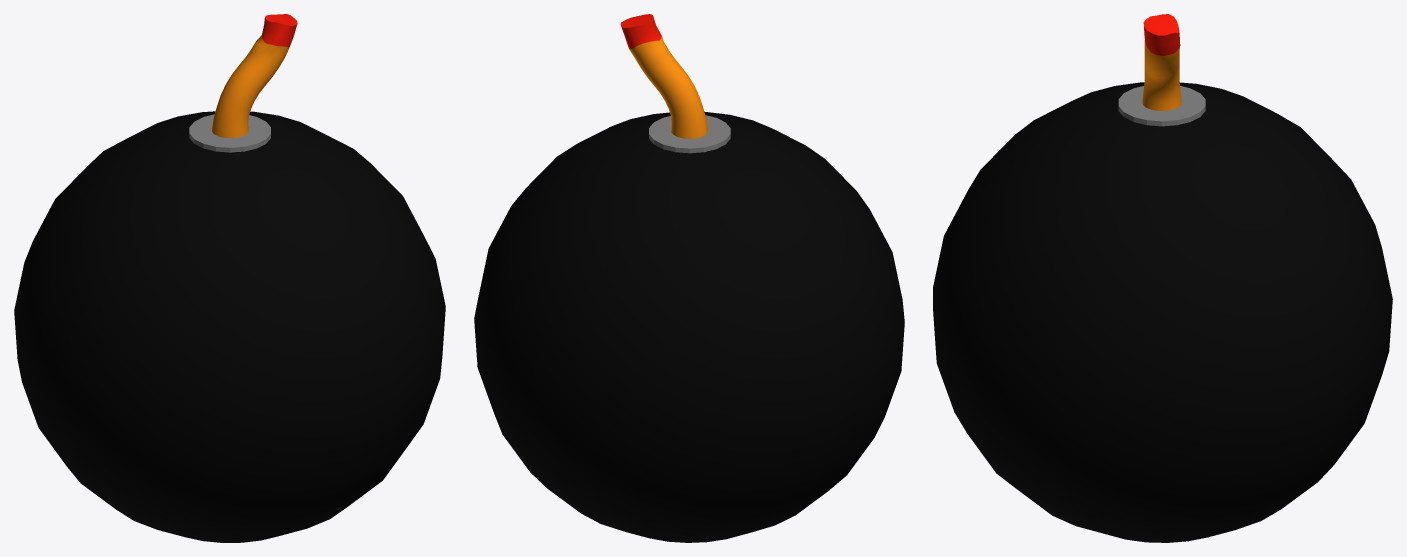
The model's file is Bomb.fbx.
3 views of the same model, side by side, from view 1: azimuth 30°, elevation 25°; view 2: azimuth 150°, elevation 25°; view 3: azimuth 270°, elevation 25° (orthographic). The views are drawn at different scales.
Parts seen in each view (by area): view 1: Sphere001; view 2: Sphere001; view 3: Sphere001.
Boxes of the visible parts, left/top/right/bottom form: Sphere001: left=14, top=14, right=445, bottom=542; Sphere001: left=474, top=14, right=904, bottom=542; Sphere001: left=933, top=14, right=1392, bottom=542.
Size of the model in its own units: 20.93 by 20.89 by 26.44.
